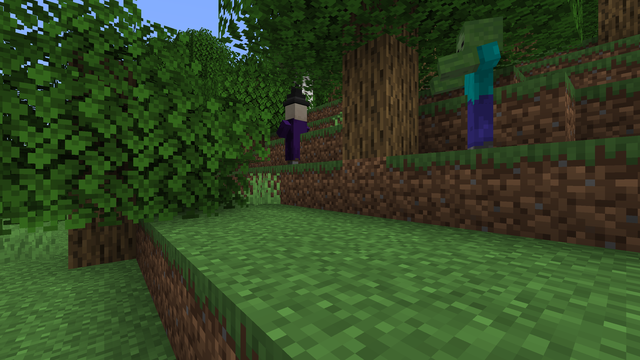sorcieres: (282, 99, 309, 152)
zombies: (449, 14, 505, 129)
